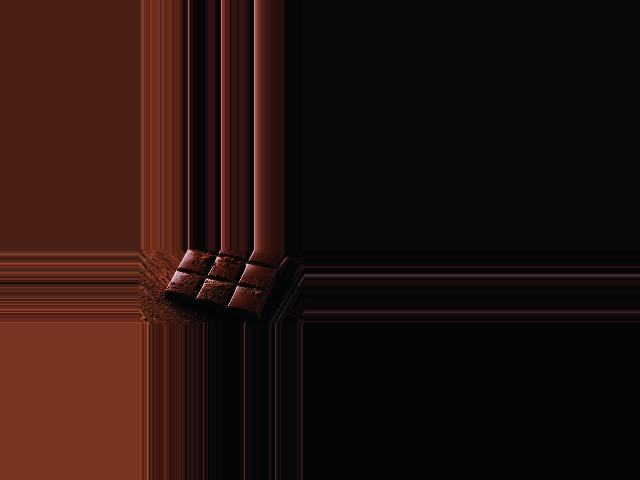chocolate: (159, 250, 285, 317)
